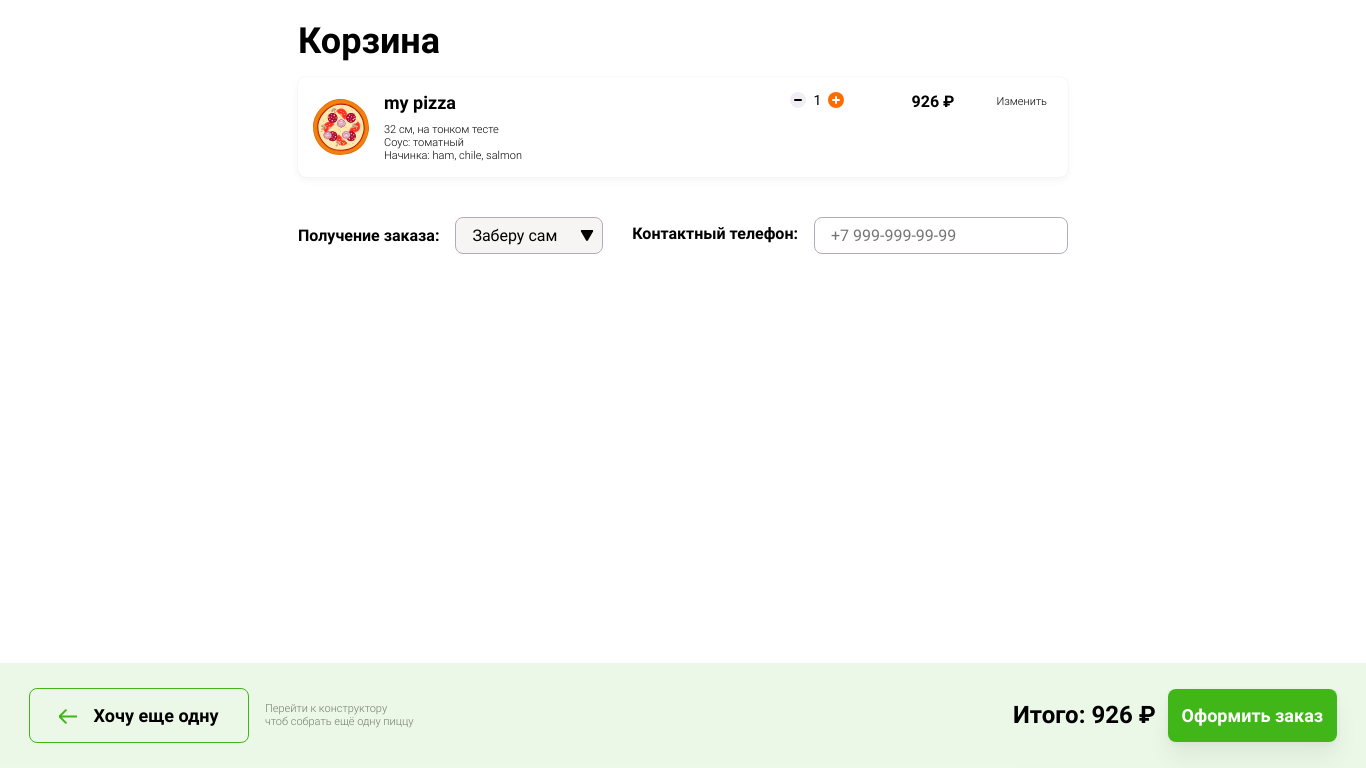
Scenario: Cart › should be error message when required field is empty
Click the submit button at (1252, 715), box [1168,689,1337,742]
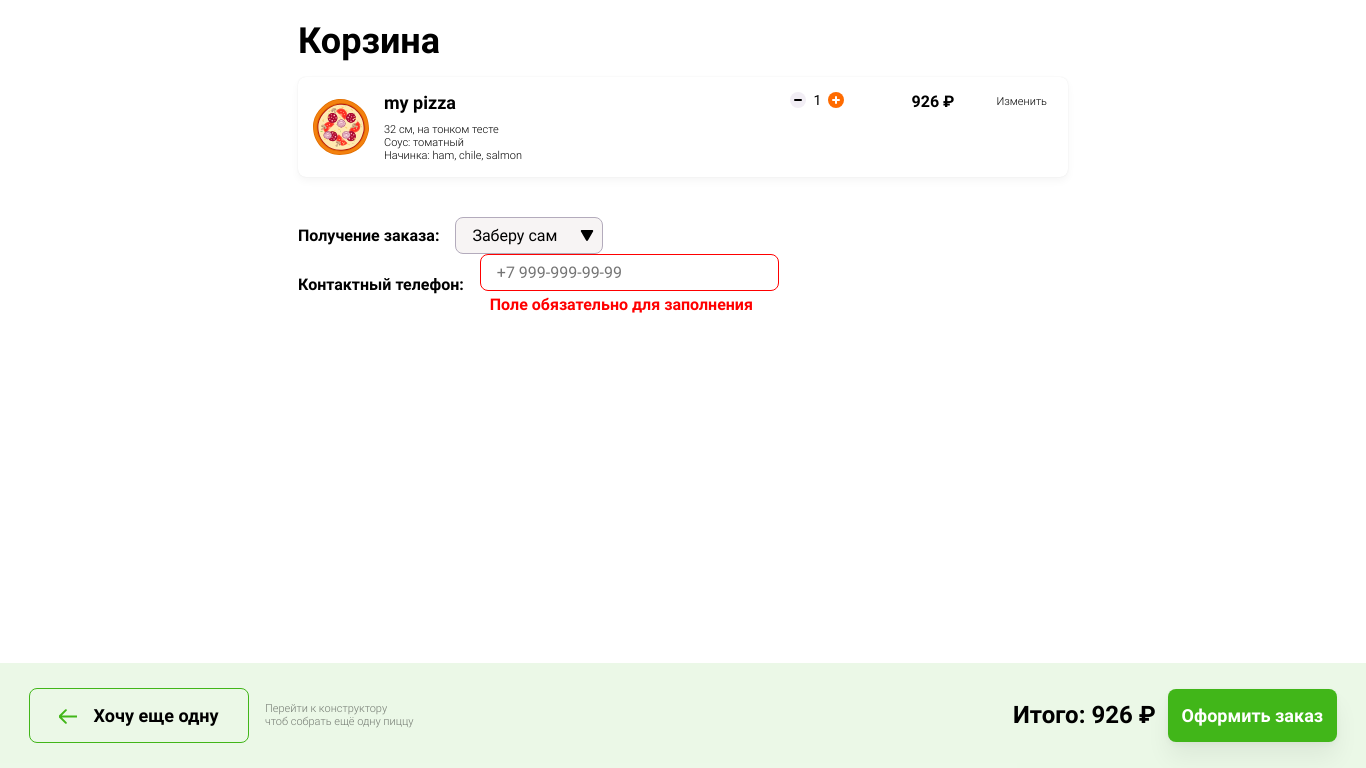
Expected: the text "Поле обязательно для заполнения" is shown, [480,291,763,314]
